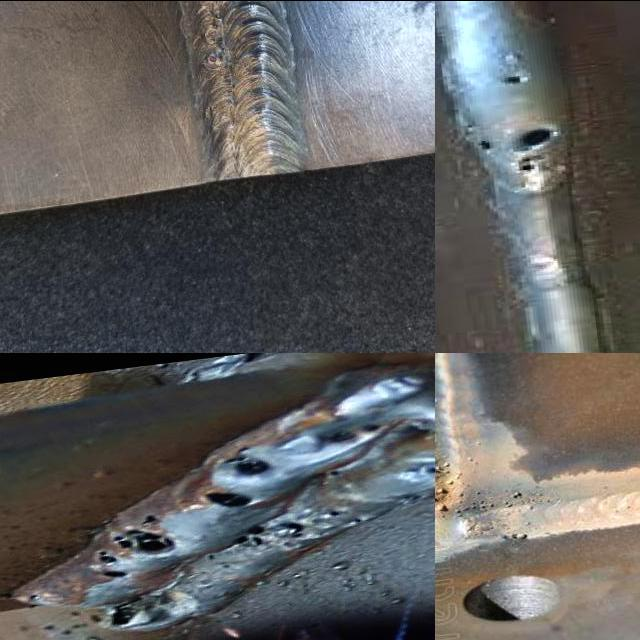defect: (90, 508, 176, 584), (435, 451, 495, 516), (104, 591, 177, 629), (515, 123, 560, 173), (218, 446, 274, 477), (191, 487, 257, 509), (229, 523, 269, 548), (463, 134, 501, 156), (498, 70, 531, 90), (277, 520, 311, 539), (493, 529, 537, 542), (324, 430, 359, 445), (500, 488, 525, 509), (200, 26, 226, 44), (200, 51, 225, 68), (399, 492, 424, 502), (362, 422, 383, 432), (25, 593, 45, 601), (201, 551, 217, 561), (421, 465, 435, 476), (213, 560, 231, 568), (328, 468, 342, 476), (325, 510, 342, 516), (352, 518, 362, 522)
